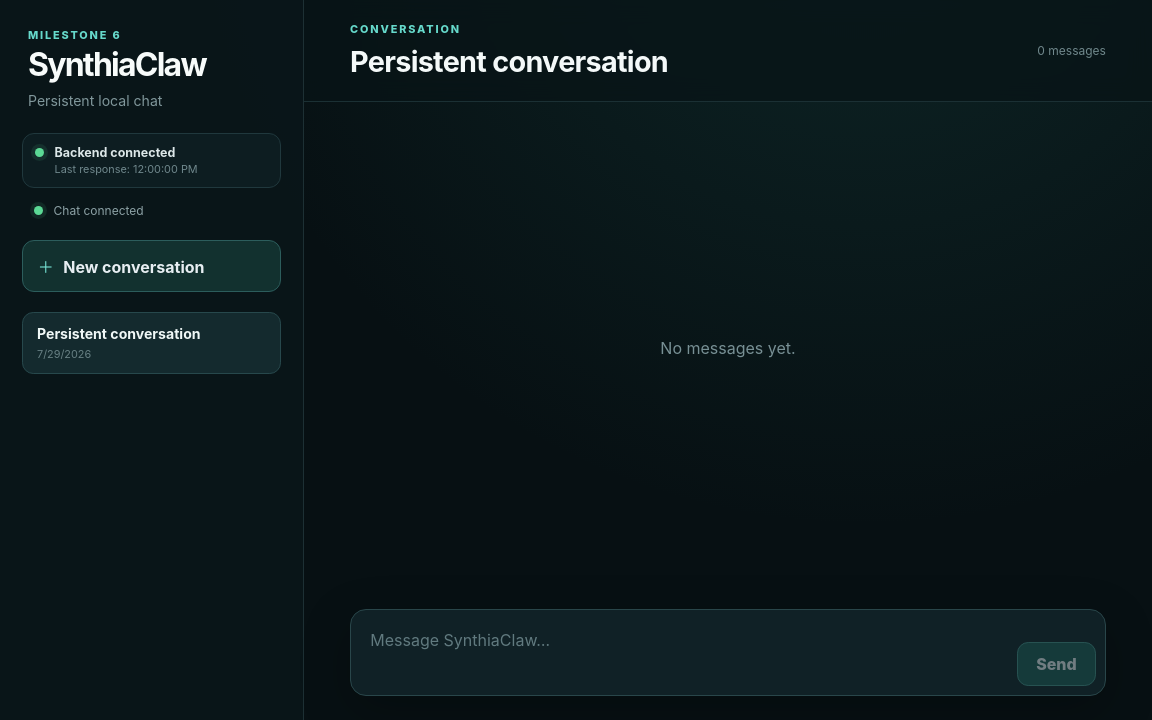
Test: SynthiaClaw chat workspace › sends run cancellation and clears the transient assistant response
The image size is (1152, 720).
Expected: the heading "Persistent conversation" is shown, [350,44,668,79]
Type "Stop this" into the text box labelled "Message" at {"x": 684, "y": 653}, box [360,619,1007,686]
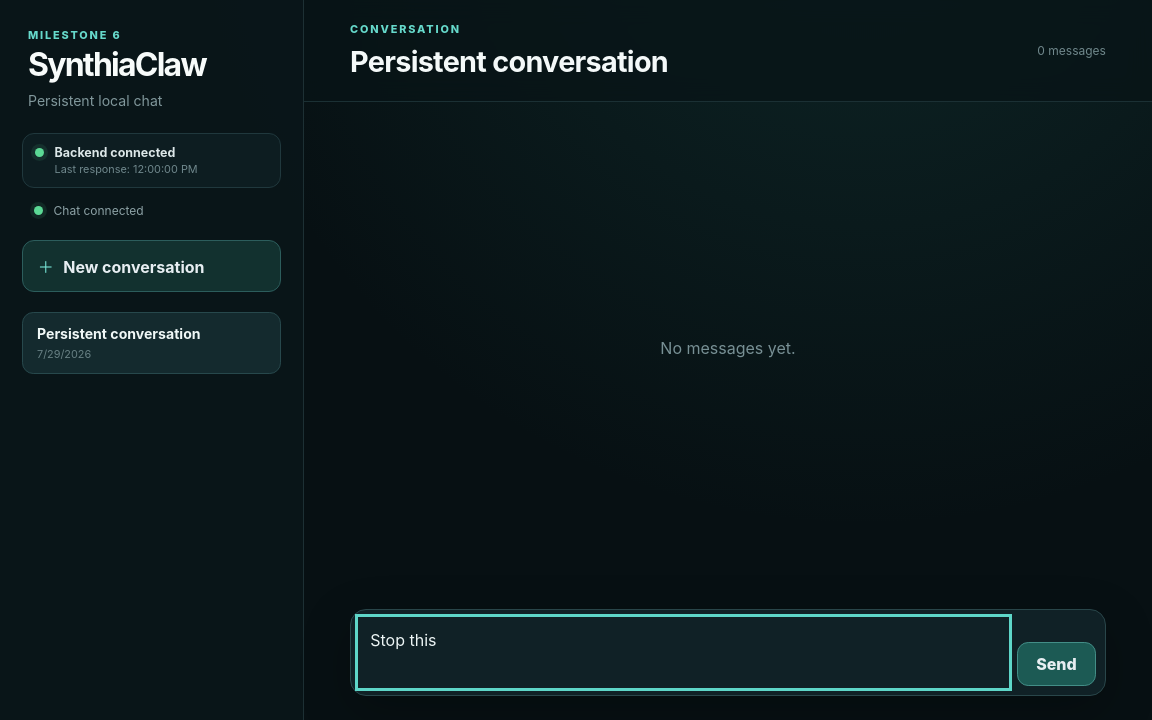
Click the button with aria-label "Send message" at {"x": 1056, "y": 664}, box [1017,642,1096,686]
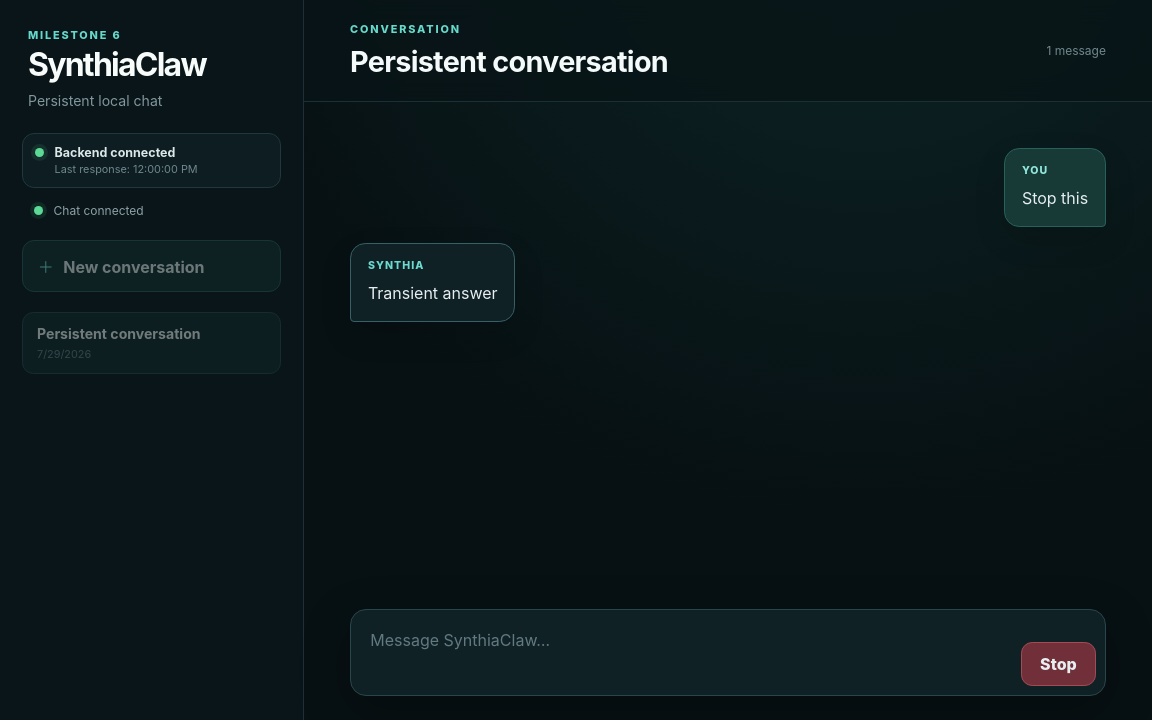
Result: the text "Transient answer" is shown at [368,281,498,306]
Click the button with aria-label "Stop generating" at {"x": 1058, "y": 664}, box [1021,642,1096,686]
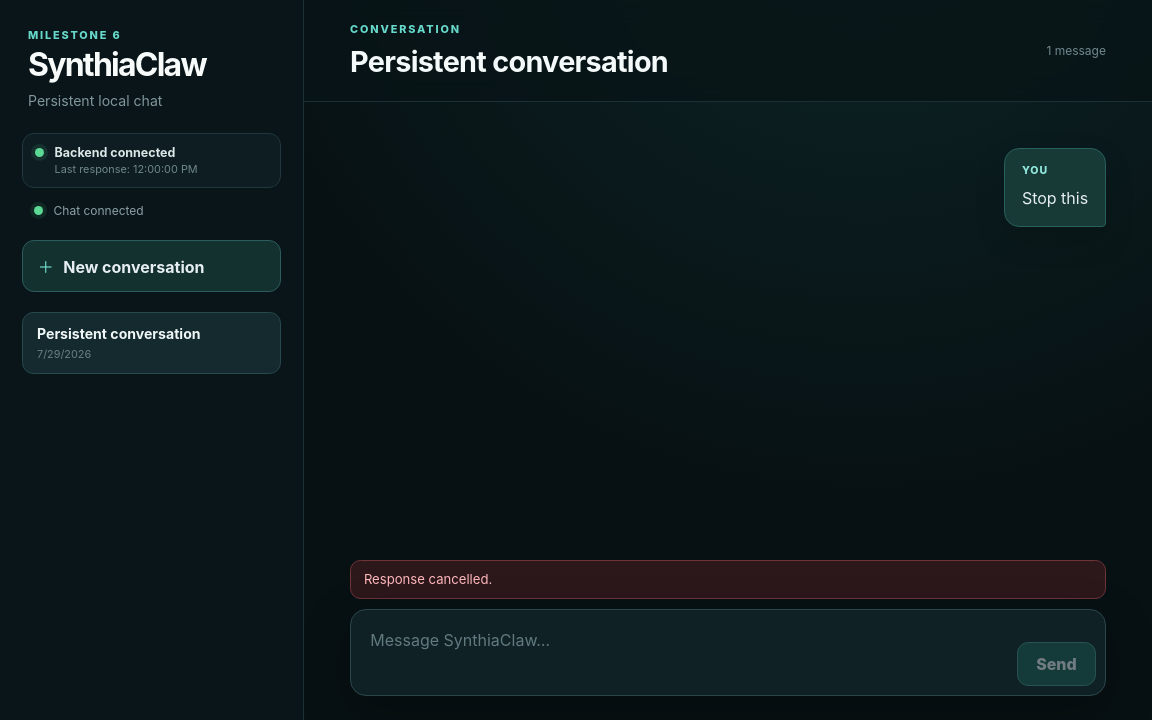
Result: the text "Response cancelled." is shown at [350,560,1106,599]
Result: the text "Transient answer" is gone
Type "Try again" into the text box labelled "Message" at {"x": 684, "y": 653}, box [360,619,1007,686]
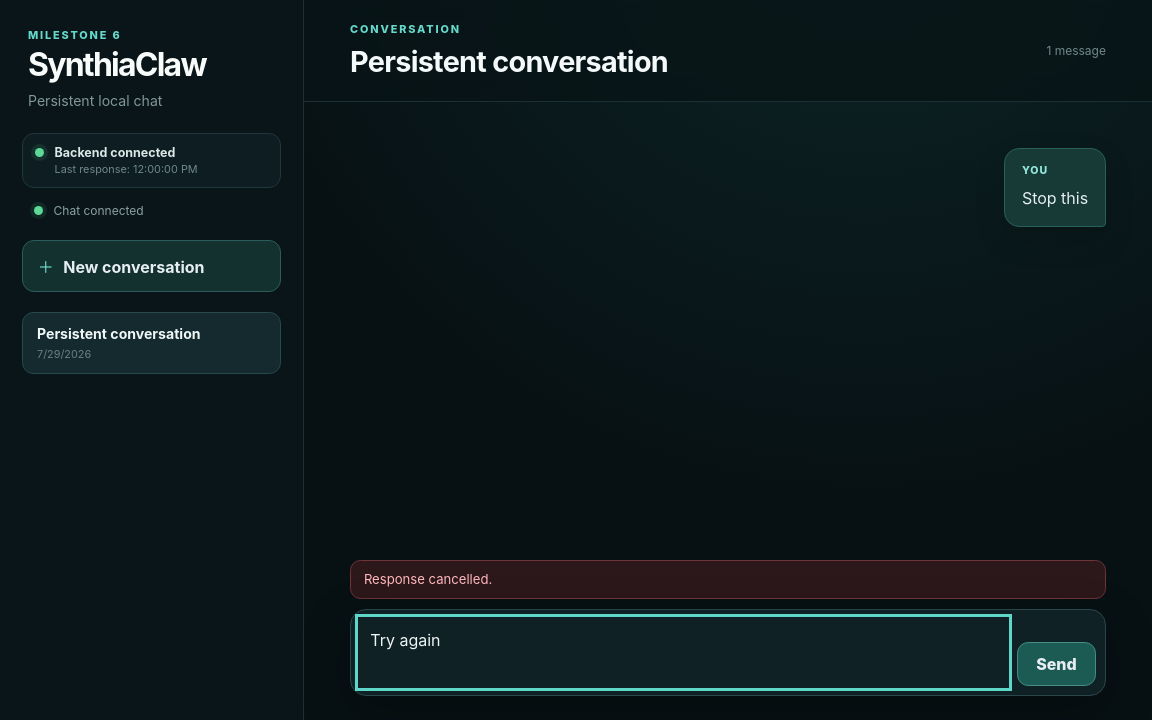
Result: the button with aria-label "Send message" is enabled at [1017,642,1096,686]
